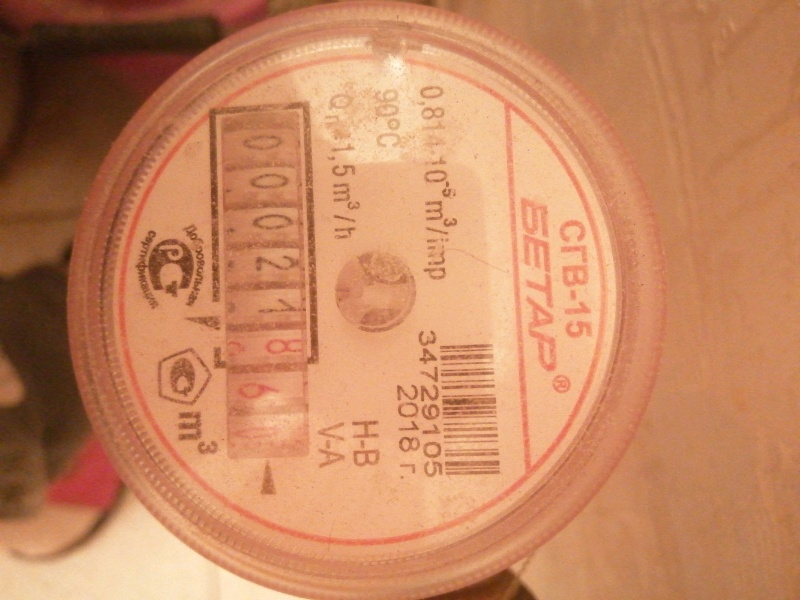meter: (219, 116, 312, 462)
